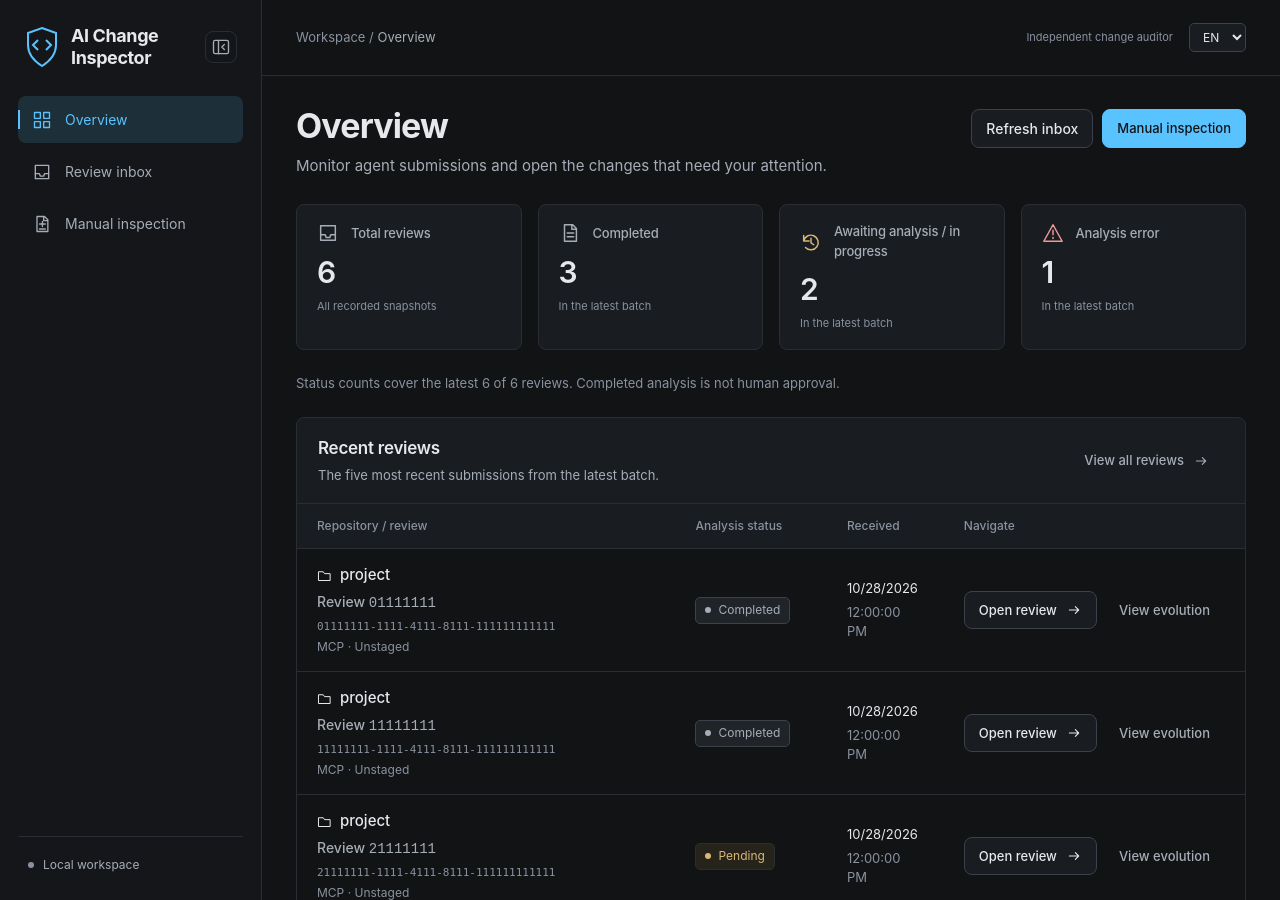
Test: keeps the existing table usable during an explicit refresh and blocks duplicate refreshes
Click the button "Refresh inbox": (1032, 128) left=971, top=109, right=1093, bottom=148
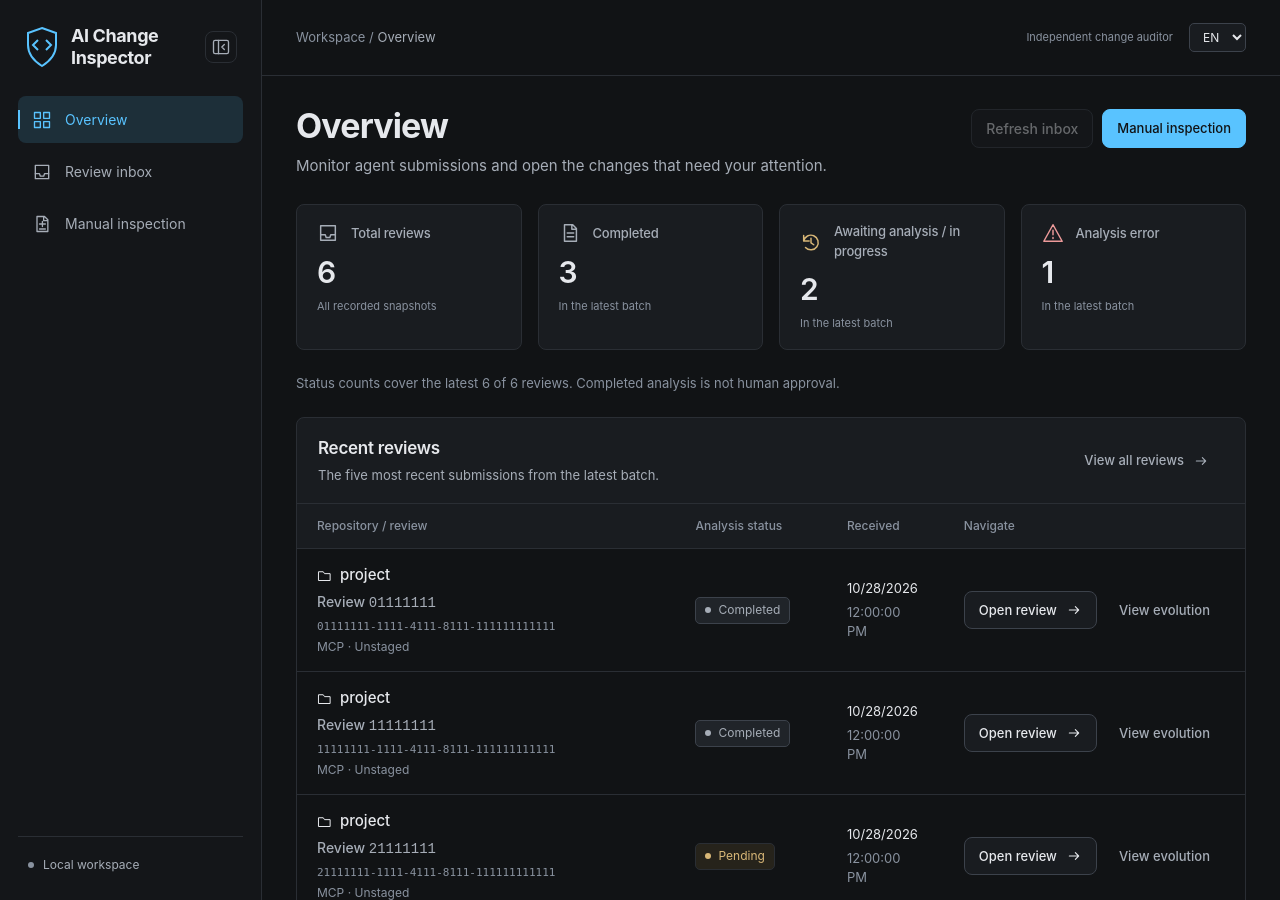
Expected: the button "Refresh inbox" is disabled
Click the button "Refresh inbox": (1032, 128) left=971, top=109, right=1093, bottom=148
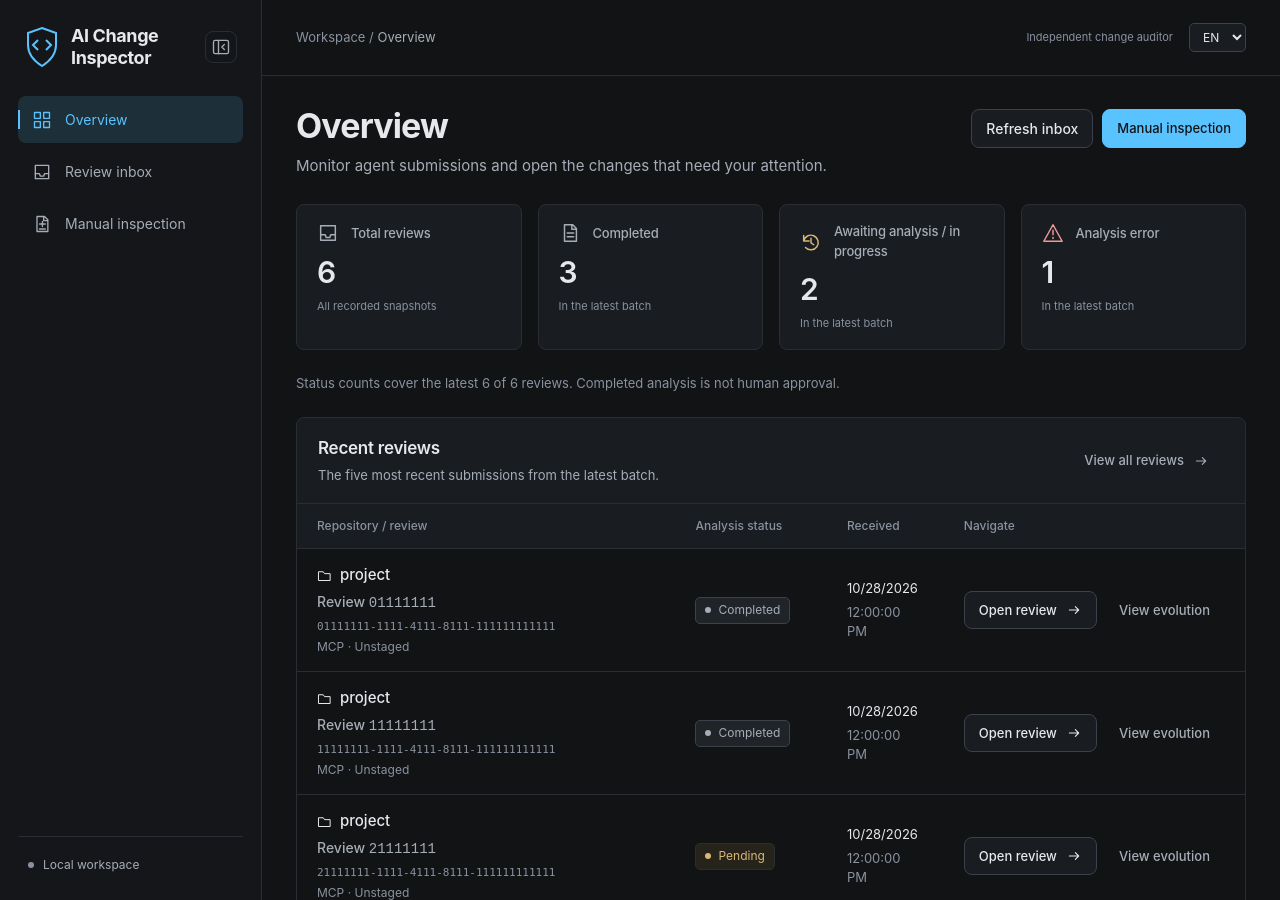
Expected: the button "Refresh inbox" is enabled, left=971, top=109, right=1093, bottom=148
